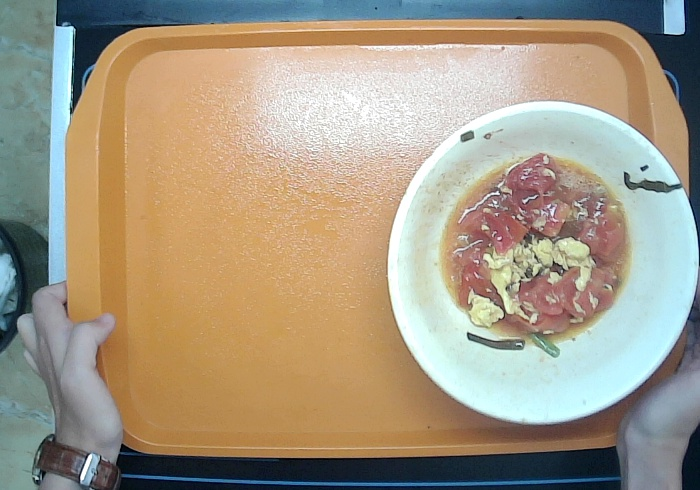ZNLD-Da_Tang_Wan: (376, 103, 700, 425)
